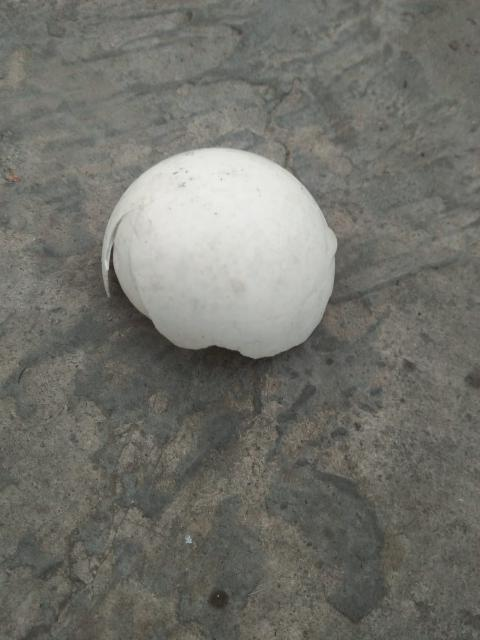Roto: (100, 146, 338, 360)
